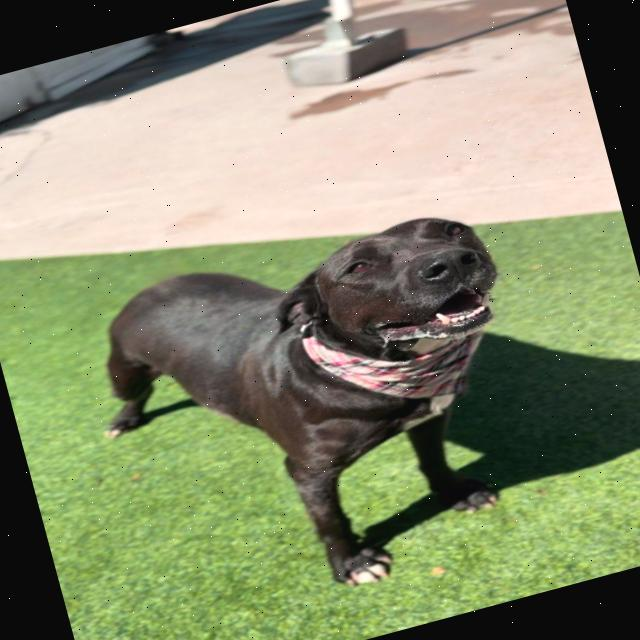labrador_retriever_dog: (238, 192, 530, 403)
